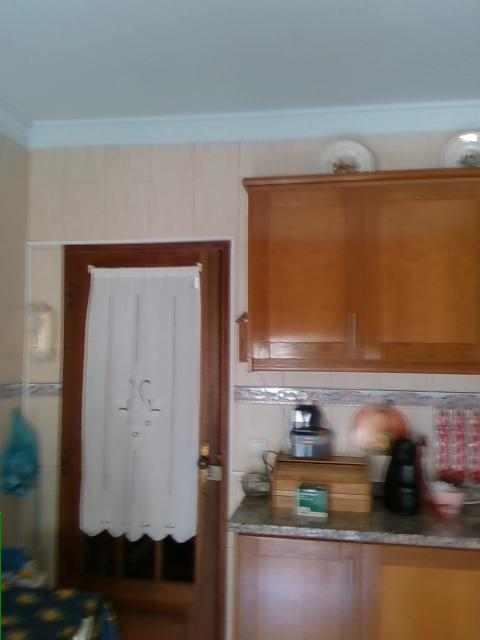door: (54, 239, 229, 639)
